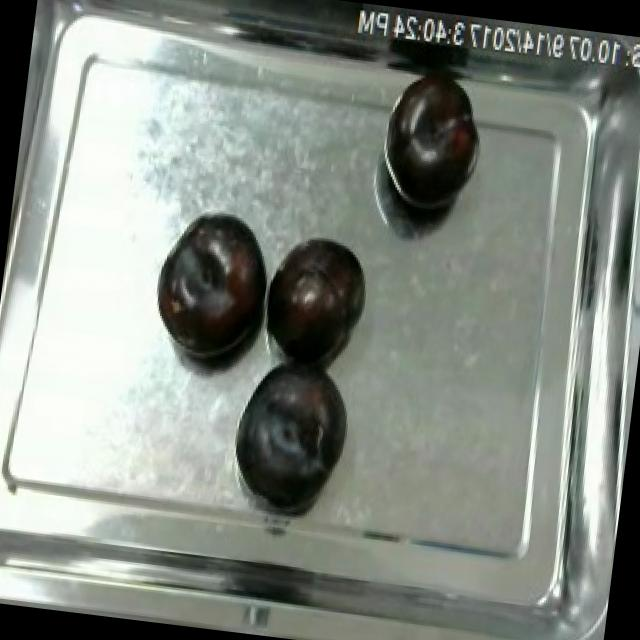Fruit: (144, 200, 279, 372), (224, 353, 360, 518), (373, 66, 492, 224), (258, 224, 376, 374)
